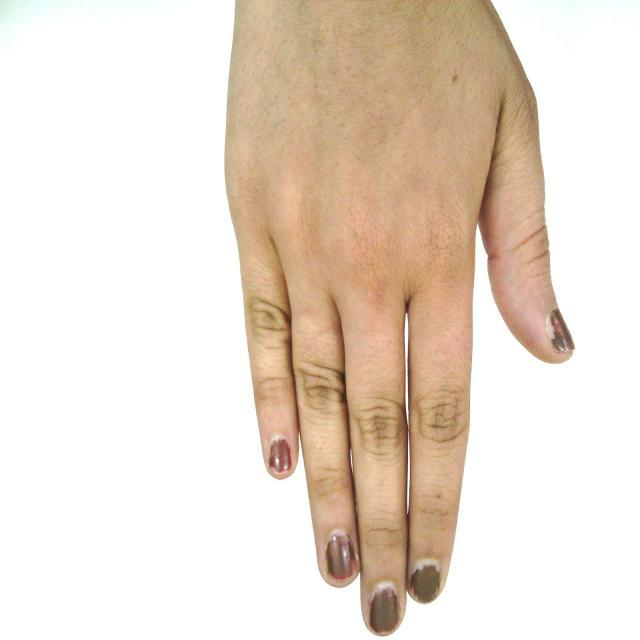Fingernail: (368, 580, 401, 634), (325, 531, 354, 580), (409, 558, 440, 603), (547, 310, 575, 353), (268, 436, 292, 475)
